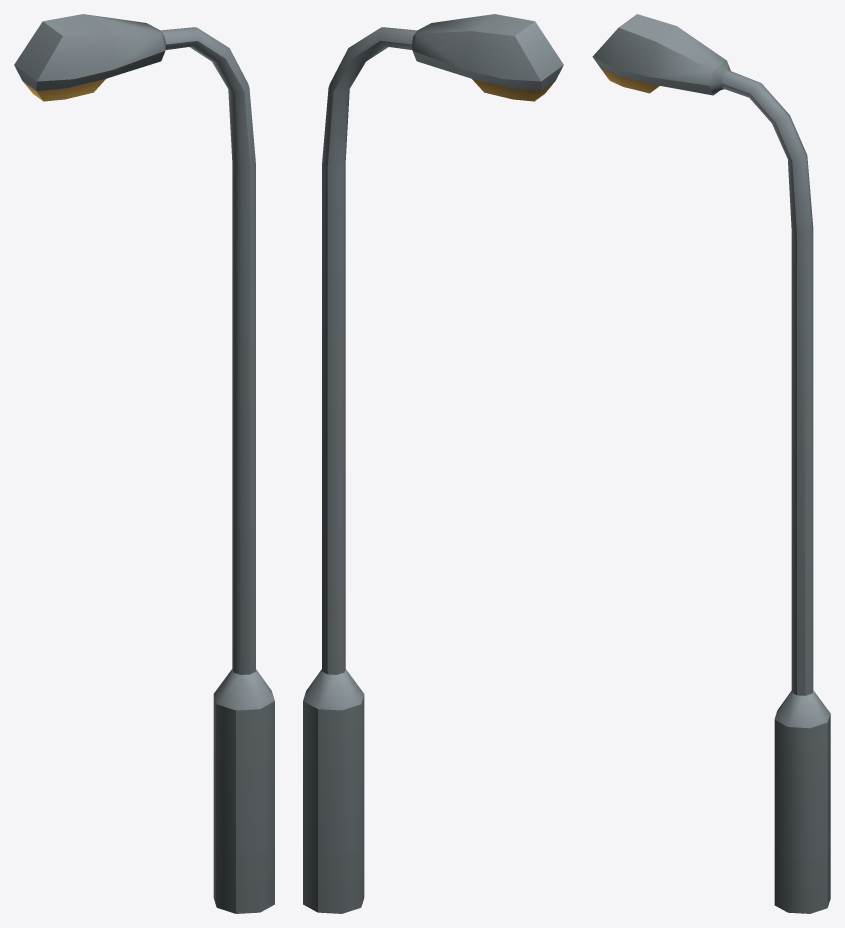
File: streetlight_free_model.glb
The picture shows the model from 3 angles, left to right: view 1: azimuth 30°, elevation 25°; view 2: azimuth 150°, elevation 25°; view 3: azimuth 330°, elevation 25°; orthographic projection. The views are drawn at different scales.
Visible parts, largest first — view 1: streetlight; view 2: streetlight; view 3: streetlight.
Boxes of the visible parts, x1,y1,x2,y2 form: streetlight: [14, 14, 274, 913]; streetlight: [303, 14, 563, 913]; streetlight: [592, 14, 830, 913].
Size of the model in its own units: 0.2693 by 0.9599 by 0.069.
Materials: 1 (1 with a texture image).
